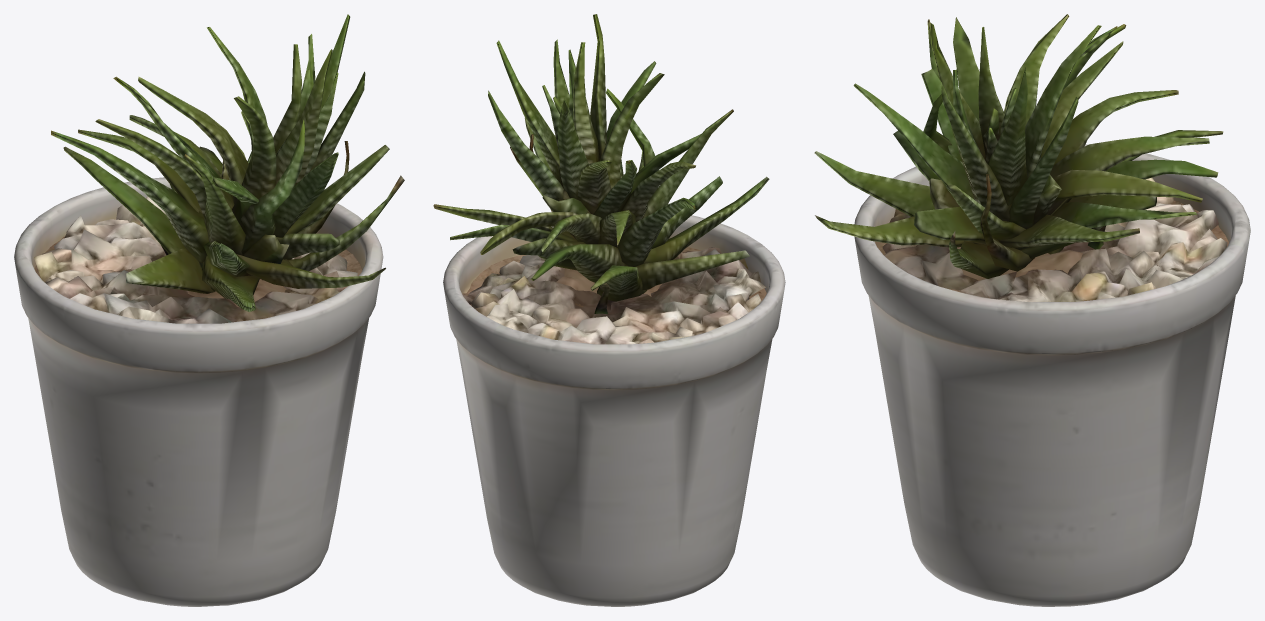
File: haworthia.glb
The picture shows the model from 3 angles, left to right: view 1: azimuth 30°, elevation 25°; view 2: azimuth 150°, elevation 25°; view 3: azimuth 270°, elevation 25°; orthographic projection. The views are drawn at different scales.
Parts seen in each view (by area): view 1: potted_plant_04_pot, potted_plant_04_plant, potted_plant_04_ground, potted_plant_04_dirt; view 2: potted_plant_04_pot, potted_plant_04_plant, potted_plant_04_ground, potted_plant_04_dirt; view 3: potted_plant_04_pot, potted_plant_04_plant, potted_plant_04_ground, potted_plant_04_dirt.
Part boxes in pixels (<box>): potted_plant_04_pot: <box>14,177,383,606</box>; potted_plant_04_plant: <box>51,14,404,311</box>; potted_plant_04_ground: <box>34,196,357,323</box>; potted_plant_04_dirt: <box>34,236,362,307</box>; potted_plant_04_pot: <box>443,215,785,606</box>; potted_plant_04_plant: <box>433,14,769,313</box>; potted_plant_04_ground: <box>462,247,766,344</box>; potted_plant_04_dirt: <box>462,247,766,307</box>; potted_plant_04_pot: <box>854,144,1250,606</box>; potted_plant_04_plant: <box>814,14,1223,278</box>; potted_plant_04_ground: <box>882,177,1227,301</box>; potted_plant_04_dirt: <box>875,200,1228,298</box>.
Bounding box in the file's own units: 0.2199 × 0.35 × 0.2417.
1 material, 1 textured.
